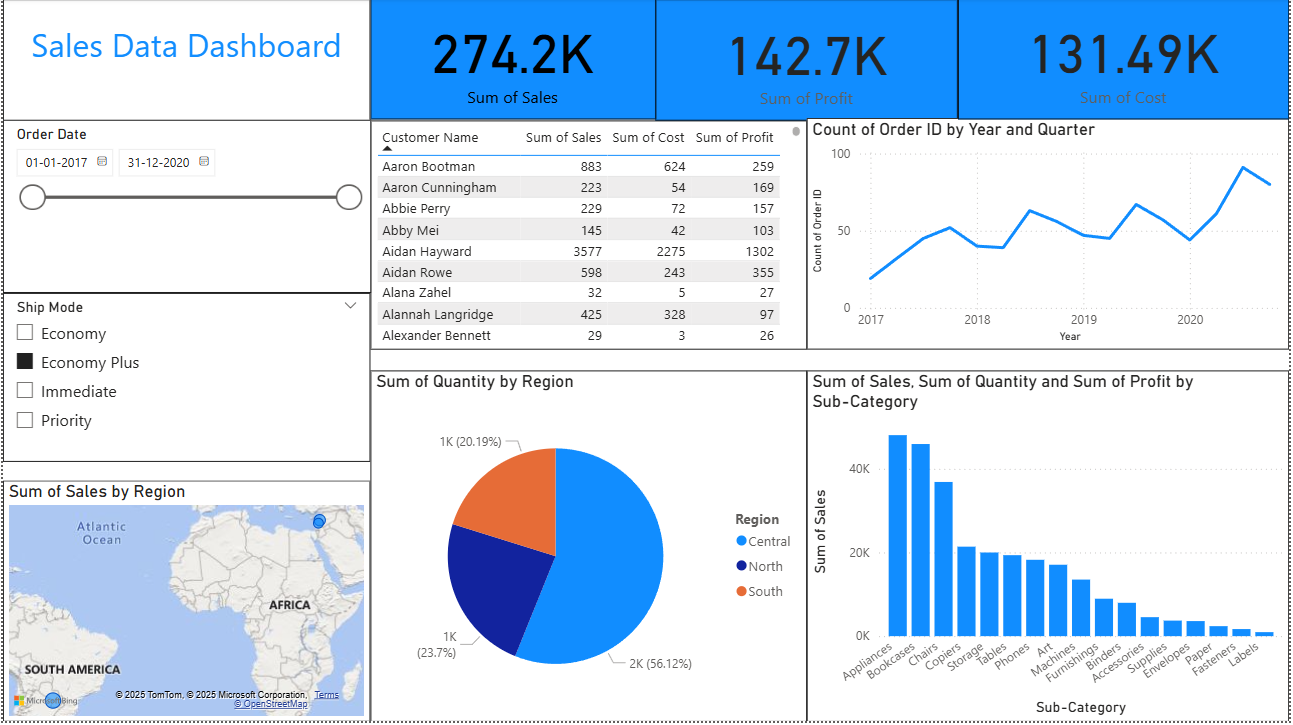

What the dashboard file says about the page in this screenshot:
{"tool":"powerbi","page":{"name":"Page 1","canvas":[1280,720],"ordinal":0},"visuals":[{"type":"card","fields":{"Values":["List of Orders.Sales"]},"box":[365.7,0,283.6,120.7],"z":0},{"type":"tableEx","fields":{"Values":["List of Orders.Customer Name","List of Orders.Sales","List of Orders.Cost","List of Orders.Profit"]},"box":[365.7,121.9,434.1,227.6],"z":1000},{"type":"card","fields":{"Values":["List of Orders.Profit"]},"box":[649.3,1.2,301,120.7],"z":2000},{"type":"clusteredColumnChart","fields":{"Category":["List of Orders.Sub-Category"],"Y":["List of Orders.Sales"]},"box":[799.9,370.7,480.2,349.6],"z":3000},{"type":"lineChart","fields":{"Y":["List of Orders.Order ID"],"Category":["List of Orders.Order Date.Variation.Date Hierarchy.Year","List of Orders.Order Date.Variation.Date Hierarchy.Quarter"]},"box":[799.9,119.4,480.2,230.1],"z":4000},{"type":"pieChart","fields":{"Y":["List of Orders.Quantity"],"Series":["List of Orders.Region"]},"box":[365.7,370.7,434.1,349.6],"z":5000},{"type":"card","fields":{"Values":["List of Orders.Cost"]},"box":[950.4,0,329.6,120.7],"z":6000},{"type":"map","fields":{"Category":["List of Orders.Region"],"Size":["List of Orders.Sales"]},"box":[0,480.2,365.7,240.1],"z":7000},{"type":"slicer","fields":{"Values":["List of Orders.Ship Mode"]},"box":[0,293.6,365.7,167.9],"z":8000},{"type":"slicer","fields":{"Values":["List of Orders.Order Date"]},"box":[0,121,366,173],"z":9000},{"type":"textbox","box":[0,1.2,365.7,120.7],"z":10000}]}

Visuals, with their boxes in screenshot pixels (x1, y1, x2, y2), scaled from the page's 1280x720 canvas onto the 1293x725 screenshot:
card - List of Orders.Sales: locate(369, 0, 656, 122)
tableEx - List of Orders.Customer Name x List of Orders.Sales: locate(369, 123, 808, 352)
card - List of Orders.Profit: locate(656, 1, 960, 123)
clusteredColumnChart - List of Orders.Sub-Category x List of Orders.Sales: locate(808, 373, 1292, 724)
lineChart - List of Orders.Order ID x List of Orders.Order Date.Variation.Date Hierarchy.Year: locate(808, 120, 1292, 352)
pieChart - List of Orders.Quantity x List of Orders.Region: locate(369, 373, 808, 724)
card - List of Orders.Cost: locate(960, 0, 1292, 122)
map - List of Orders.Region x List of Orders.Sales: locate(0, 484, 369, 724)
slicer - List of Orders.Ship Mode: locate(0, 296, 369, 465)
slicer - List of Orders.Order Date: locate(0, 122, 370, 296)
textbox: locate(0, 1, 369, 123)
